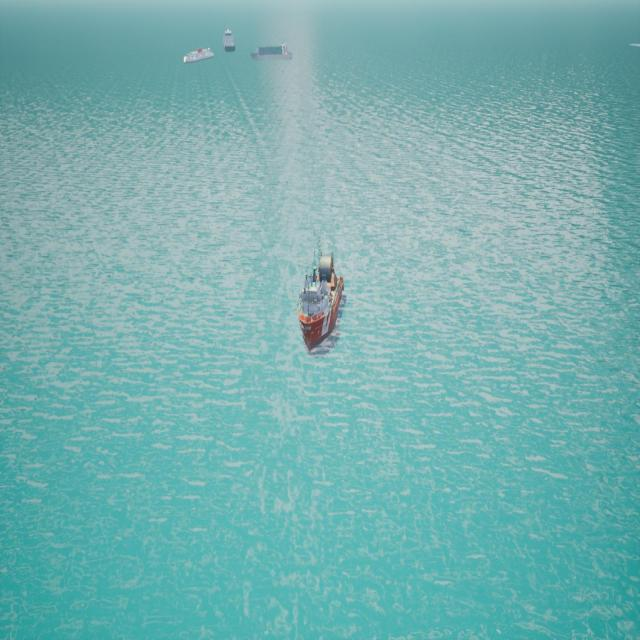tug boat: (298, 253, 345, 355)
